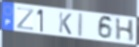1: (37, 9, 44, 33)
6: (96, 15, 115, 41)
H: (115, 18, 136, 43)
I: (77, 12, 85, 38)
K: (59, 11, 73, 36)
Z: (16, 7, 35, 32)
